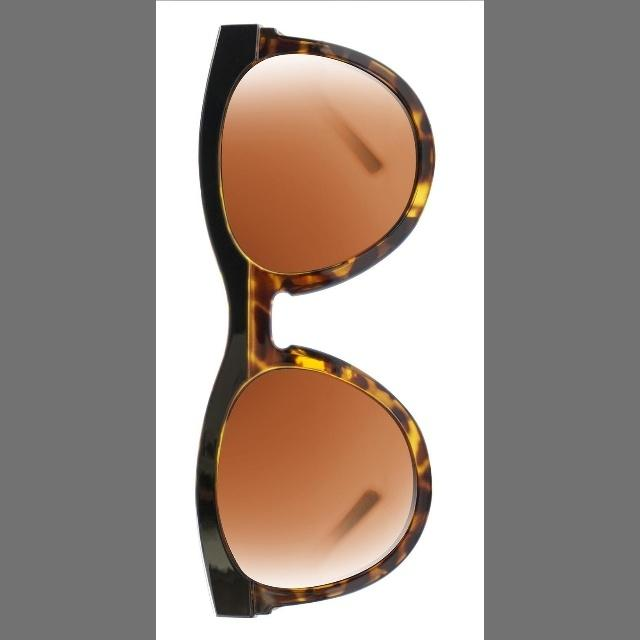Sunglasses: (180, 19, 474, 629)
